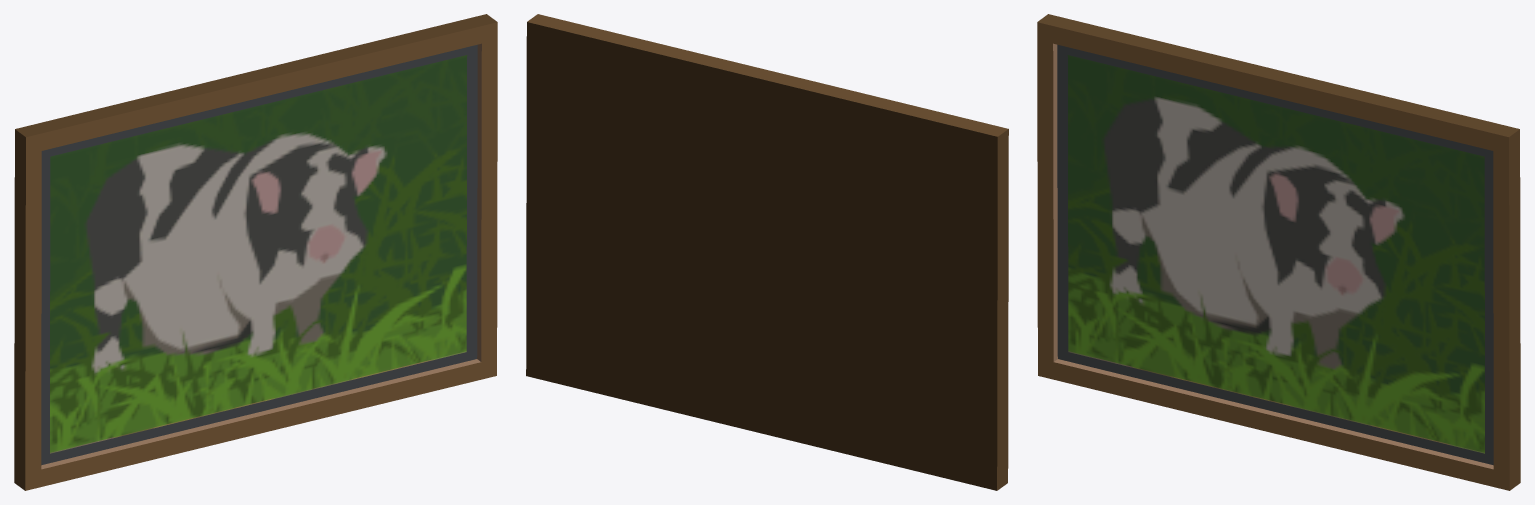
File: SM_Prop_FarmPhoto_07.obj
3 renders of one model, left to right at view 1: azimuth 30°, elevation 25°; view 2: azimuth 150°, elevation 25°; view 3: azimuth 330°, elevation 25°, orthographic.
Visible parts, largest first — view 1: SM_Prop_FarmPhoto_07_Mat_SwatchOverlay_Farm_Main_01_Inst; view 2: SM_Prop_FarmPhoto_07_Mat_SwatchOverlay_Farm_Main_01_Inst; view 3: SM_Prop_FarmPhoto_07_Mat_SwatchOverlay_Farm_Main_01_Inst.
Part boxes in pixels (left/top/right/bottom): SM_Prop_FarmPhoto_07_Mat_SwatchOverlay_Farm_Main_01_Inst: left=14, top=14, right=497, bottom=490; SM_Prop_FarmPhoto_07_Mat_SwatchOverlay_Farm_Main_01_Inst: left=526, top=14, right=1008, bottom=490; SM_Prop_FarmPhoto_07_Mat_SwatchOverlay_Farm_Main_01_Inst: left=1037, top=14, right=1520, bottom=490.
Bounding box in the file's own units: 0.6882 × 0.4939 × 0.0297.
Materials: 1 (1 with a texture image).
